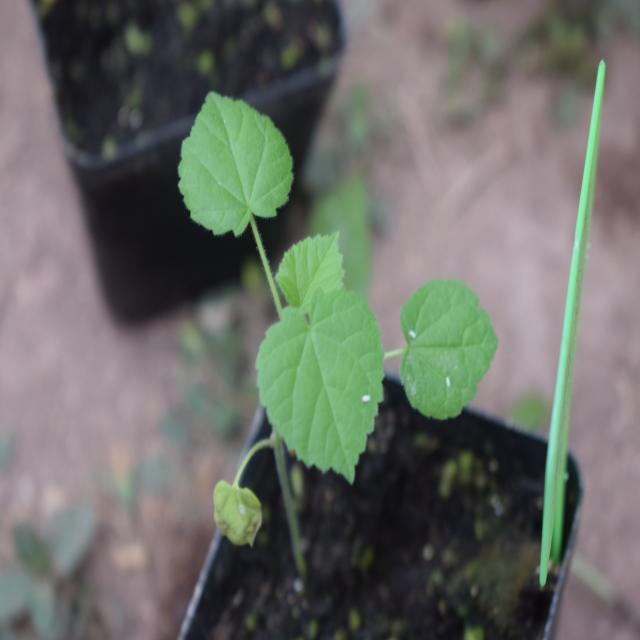abutilon theophrasti: (182, 81, 493, 495)
